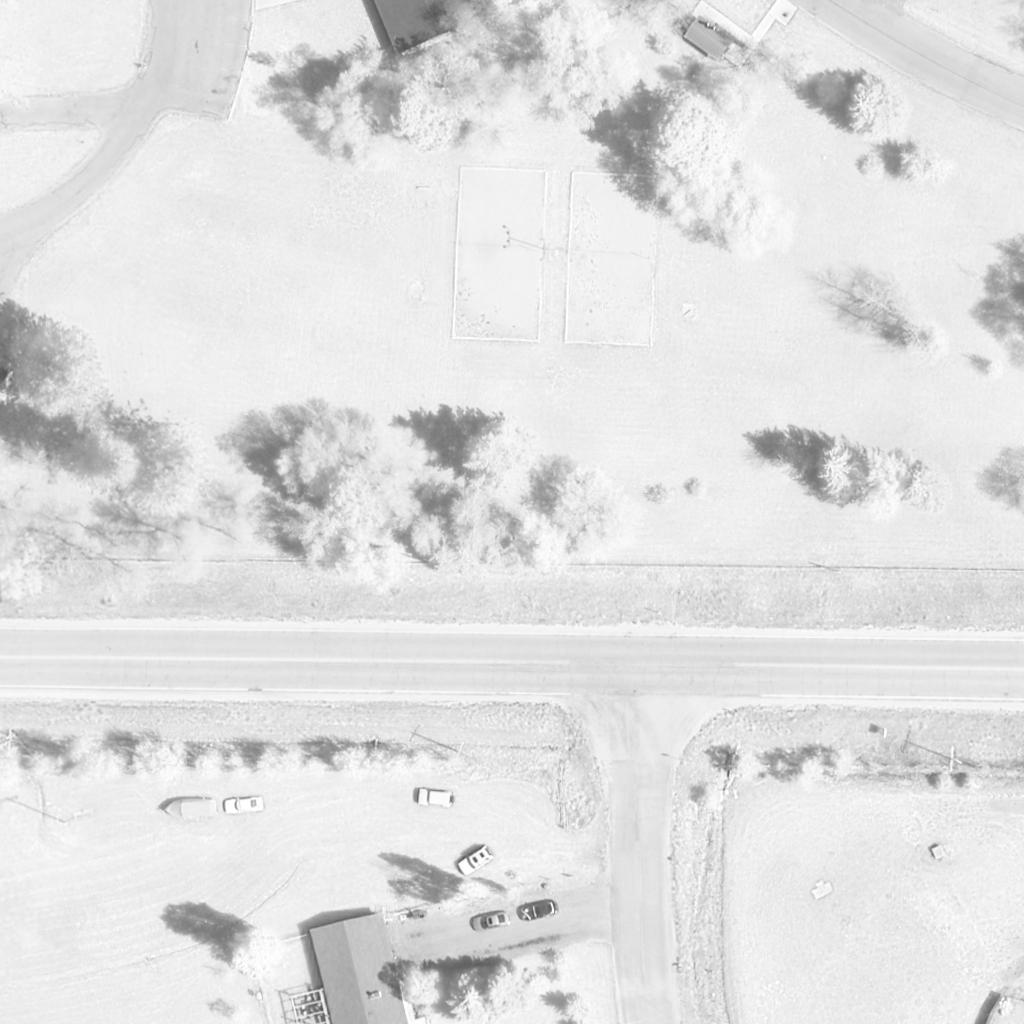vehicle: (159, 795, 219, 821), (452, 848, 496, 878), (469, 911, 513, 933), (516, 900, 560, 920), (220, 798, 266, 816), (416, 788, 454, 806)
